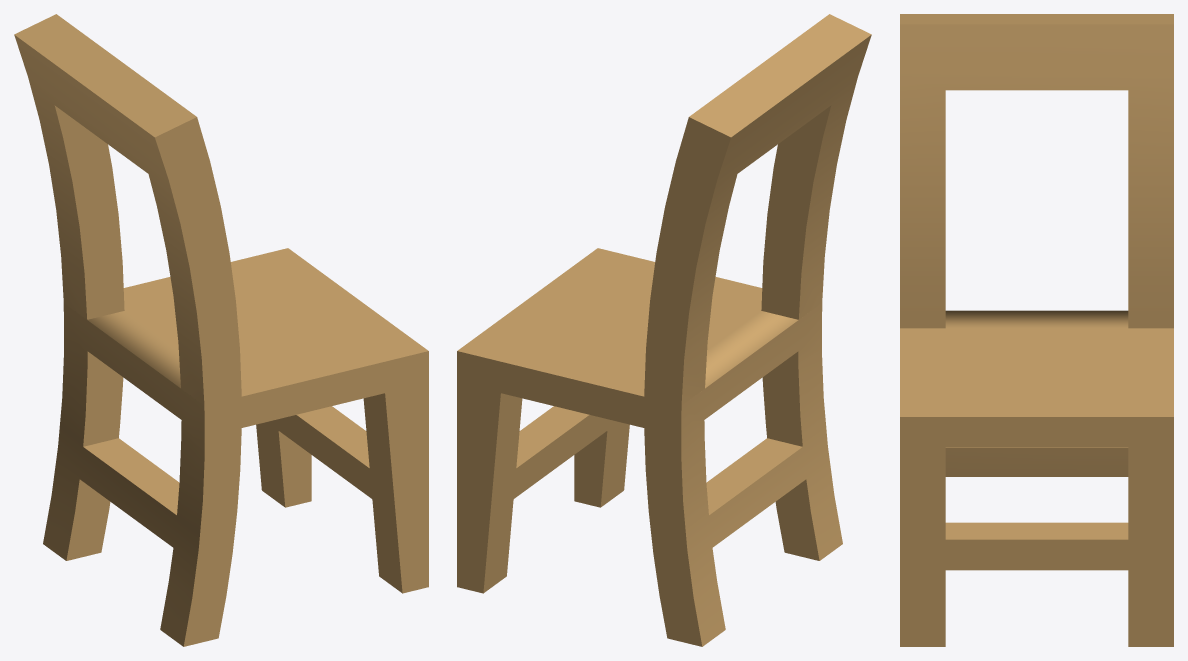
The model's file is Chair.fbx.
3 renders of one model, left to right at view 1: azimuth 30°, elevation 25°; view 2: azimuth 150°, elevation 25°; view 3: azimuth 270°, elevation 25°, orthographic. The views are drawn at different scales.
Visible parts, largest first — view 1: node_id109; view 2: node_id109; view 3: node_id109.
Part boxes in pixels (x1,y1,x2,y2): node_id109: [14, 14, 428, 646]; node_id109: [457, 14, 871, 646]; node_id109: [900, 14, 1173, 646].
Size of the model in its own units: 168 by 309 by 150.
Materials: 1 (1 with a texture image).
